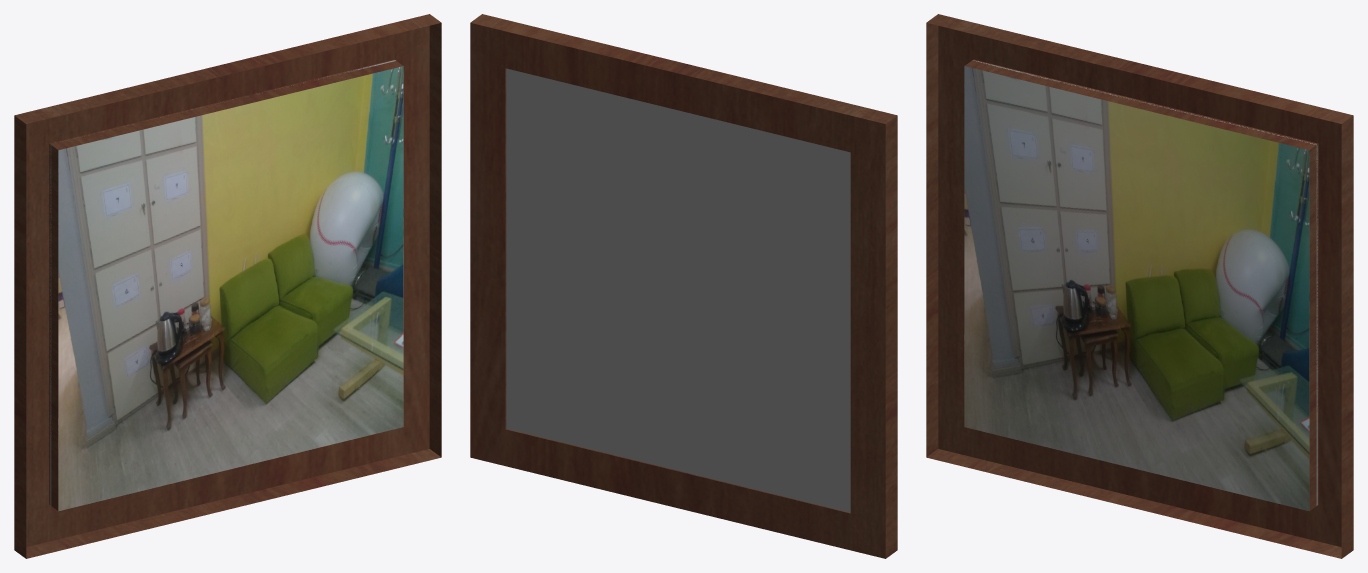
Rendered from frame.fbx.
3 renders of one model, left to right at view 1: azimuth 30°, elevation 25°; view 2: azimuth 150°, elevation 25°; view 3: azimuth 330°, elevation 25°, orthographic.
Parts seen in each view (by area): view 1: frame; view 2: frame; view 3: frame.
Part boxes in pixels (x1,y1,x2,y2): frame: (14,14,441,558); frame: (470,14,897,558); frame: (926,14,1353,558).
Size of the model in its own units: 40 by 40 by 2.
